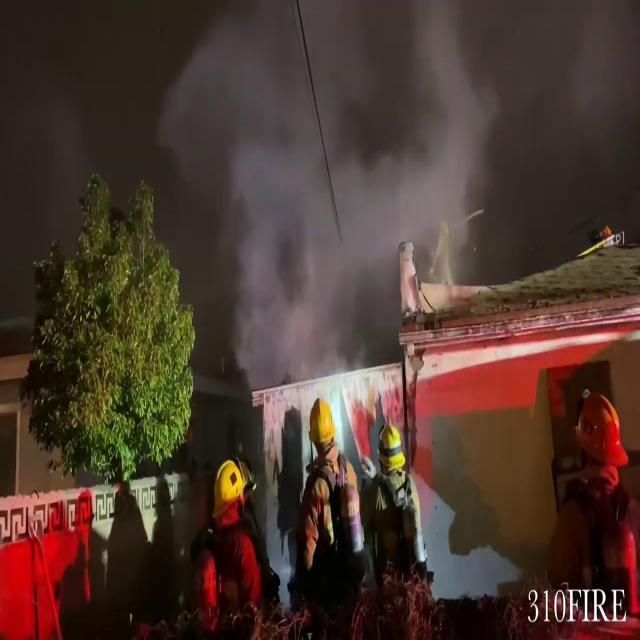Smoke: (186, 0, 508, 355)
